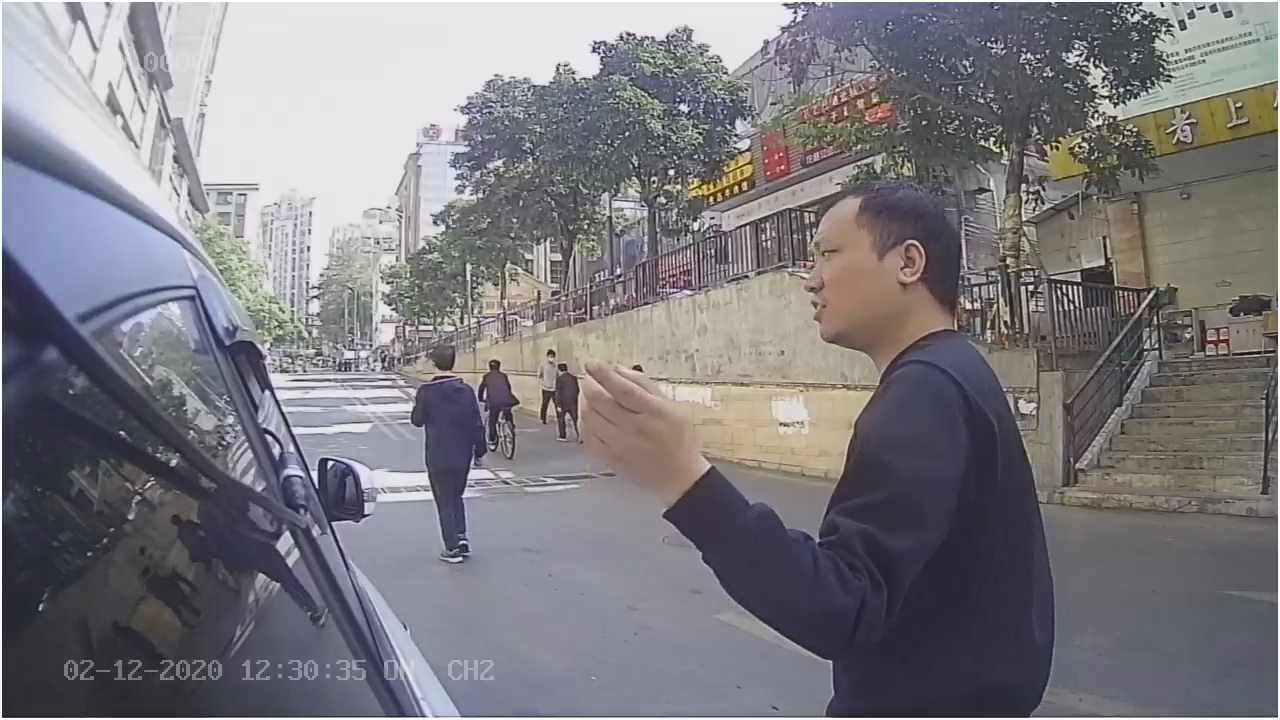person: (771, 183, 1040, 486), (402, 335, 492, 578)
